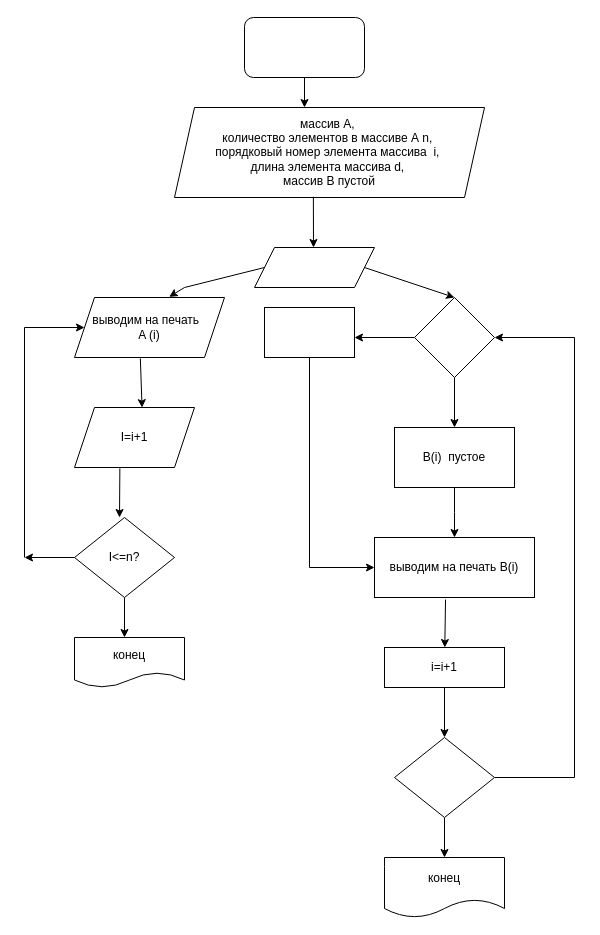
Some shapes in this 600 by 935 pixel diagram are drawn without their labels. Each missing label, with the centre of its shape:
"B(i)=A(i)" belongs at point 309,332.
"d A(i)<=3" belongs at point 454,337.
"i<=n" belongs at point 444,777.
"i=0" belongs at point 314,267.
"Ночало" belongs at point 304,47.
